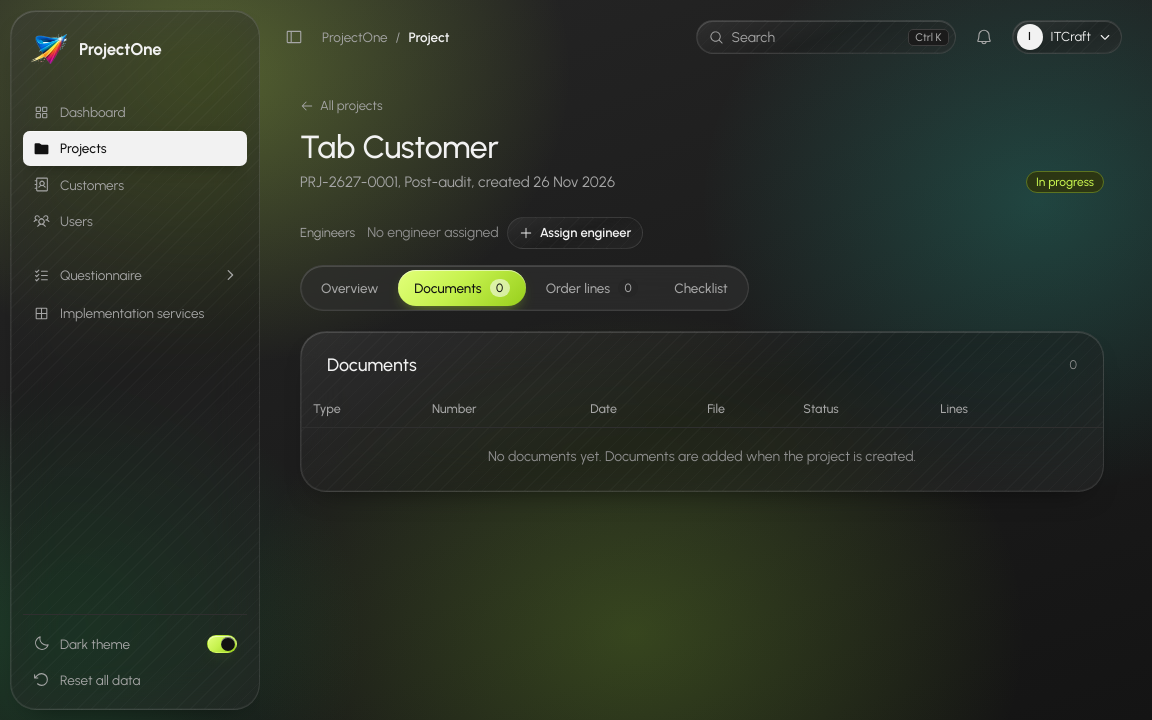
Test case: project tabs › switches between the tabs of a project without losing the page
The width and height of the screenshot is (1152, 720).
Check: the heading "Tab Customer" is shown, box [300,128,499,166]
Click the link "Order lines 0" at {"x": 592, "y": 288}, box [546,279,638,297]
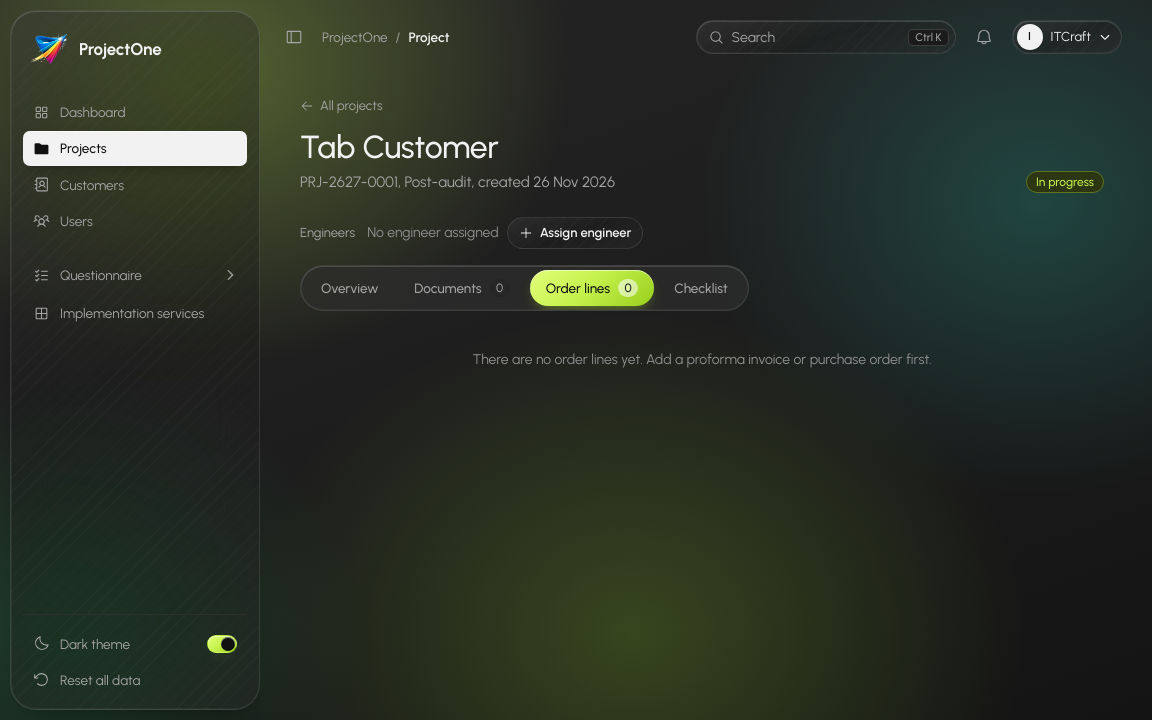
Check: the heading "Tab Customer" is shown, box [300,128,499,166]
Check: the text "There are no order lines yet" is shown, box [472,351,646,368]
Click the link "Overview" at {"x": 350, "y": 288}, box [321,280,378,296]
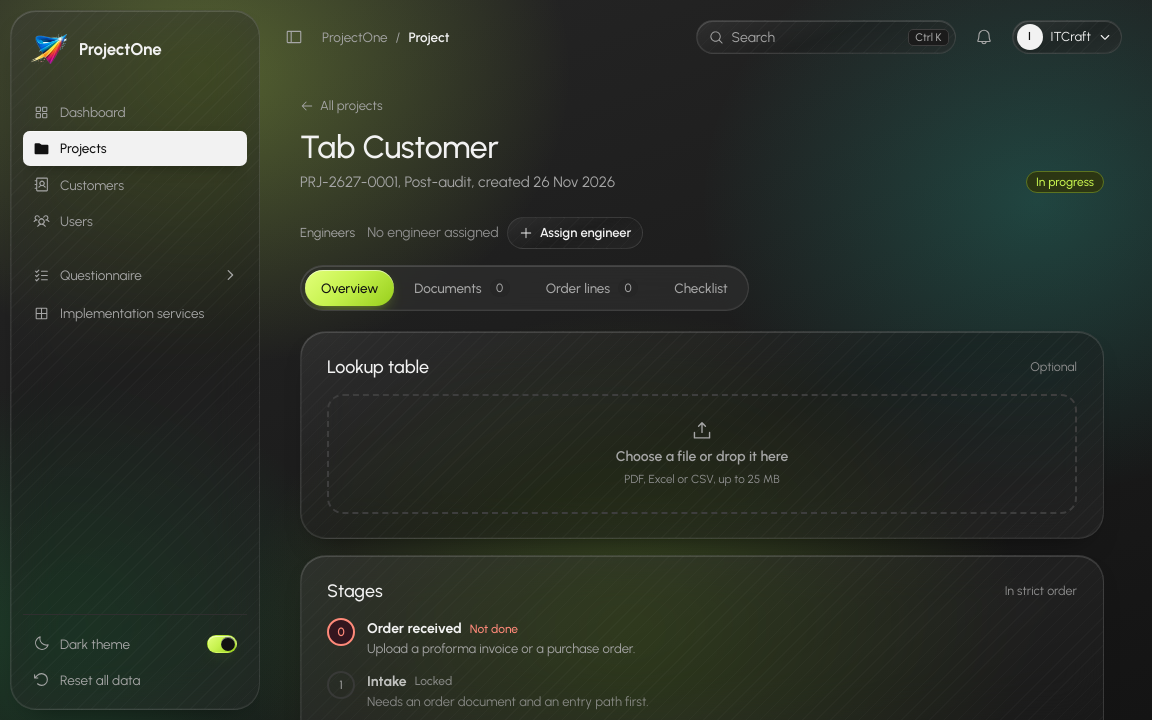
Check: the heading "Tab Customer" is shown, box [300,128,499,166]
Check: the text "Choose a file or drop it here" is shown, box [616,446,788,467]
Click the link "Checklist" at {"x": 701, "y": 288}, box [674,280,728,296]
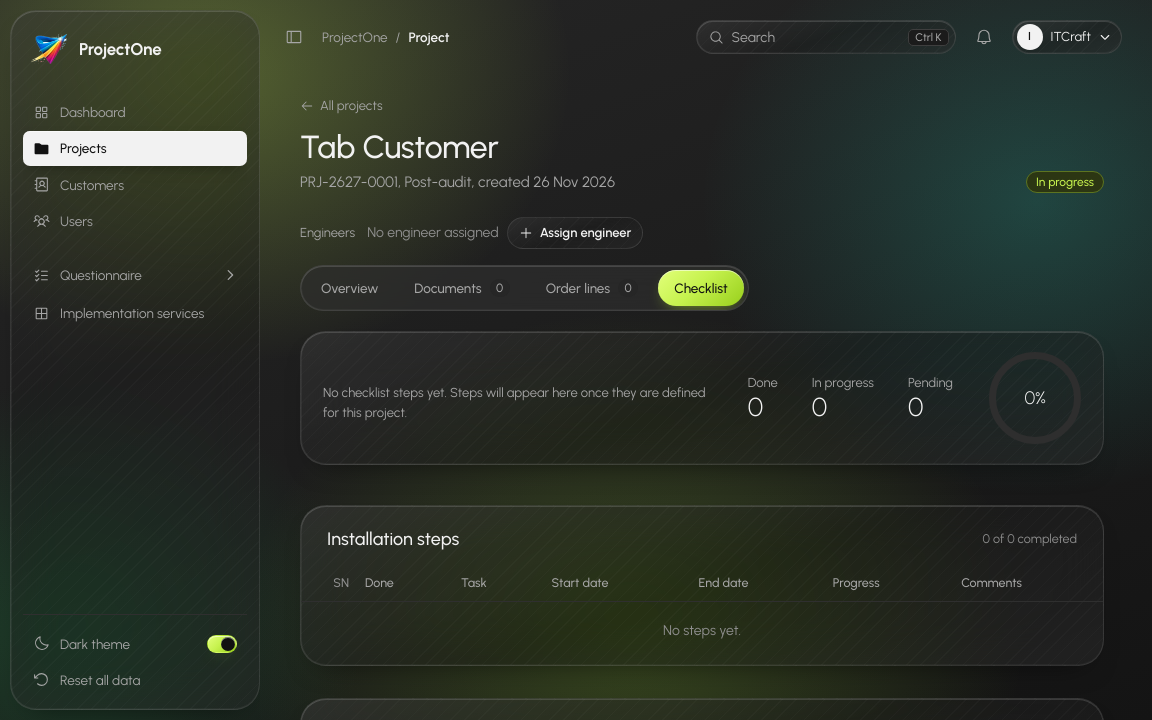
Check: the heading "Tab Customer" is shown, box [300,128,499,166]
Check: the text "No checklist steps yet. Steps " is shown, box [323,385,706,420]
